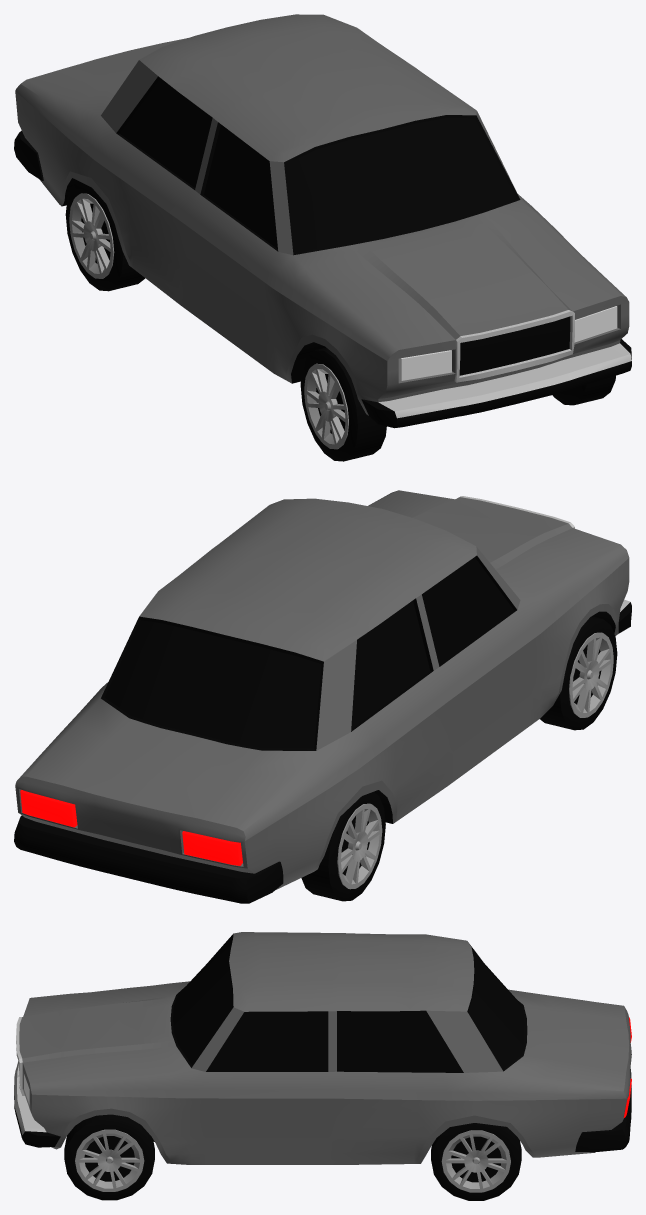
Rendered from Lada 2107.fbx.
3 renders of one model, top to bottom at view 1: azimuth 30°, elevation 25°; view 2: azimuth 150°, elevation 25°; view 3: azimuth 270°, elevation 25°, orthographic. The views are drawn at different scales.
Parts seen in each view (by area): view 1: 2107, FR_Wheel, BR_Wheel, FL_Wheel; view 2: 2107, BR_Wheel, FR_Wheel; view 3: 2107, FL_Wheel, BL_Wheel.
Part boxes in pixels (bbox=[...]): 2107: bbox=[14, 14, 631, 428]; FR_Wheel: bbox=[300, 347, 386, 461]; BR_Wheel: bbox=[65, 181, 145, 291]; FL_Wheel: bbox=[552, 375, 615, 405]; 2107: bbox=[14, 490, 631, 903]; BR_Wheel: bbox=[301, 792, 385, 901]; FR_Wheel: bbox=[540, 616, 617, 730]; 2107: bbox=[14, 932, 631, 1164]; FL_Wheel: bbox=[64, 1114, 154, 1200]; BL_Wheel: bbox=[431, 1123, 521, 1200].
Size of the model in its own units: 164 by 140 by 408.
